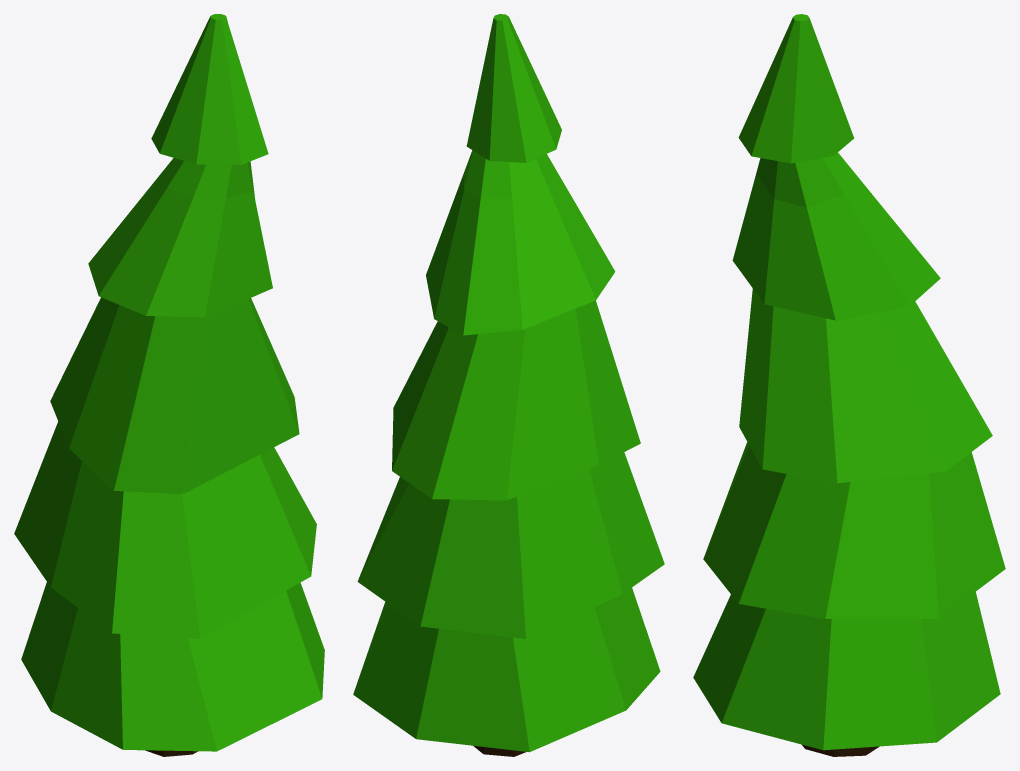
Rendered from Iglaste II.FBX.
3 views of the same model, side by side, from view 1: azimuth 30°, elevation 25°; view 2: azimuth 150°, elevation 25°; view 3: azimuth 270°, elevation 25° (orthographic). The views are drawn at different scales.
Parts seen in each view (by area): view 1: pine tree 1 var 1; view 2: pine tree 1 var 1; view 3: pine tree 1 var 1.
Boxes of the visible parts, bbox=[...] form: pine tree 1 var 1: bbox=[14, 14, 324, 751]; pine tree 1 var 1: bbox=[353, 14, 664, 752]; pine tree 1 var 1: bbox=[693, 14, 1005, 750].
Bounding box in the file's own units: 23.45 × 61.66 × 23.66.
